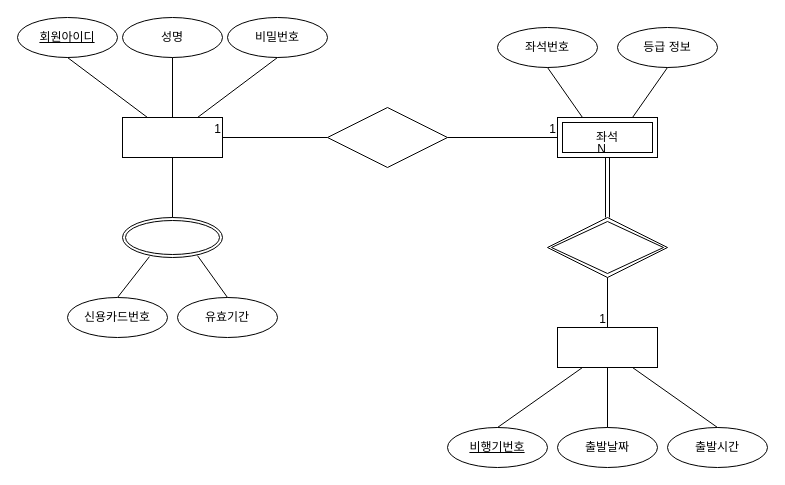
The diagram is 785 pixels wide and 485 high, and some of its shapes have lost their labels. Each missing label, with the centre of its shape:
"비행기" goes at (607,347).
"신용카드" goes at (172,237).
"예약" goes at (387,137).
"존재" goes at (607,247).
"회원" goes at (172,137).
